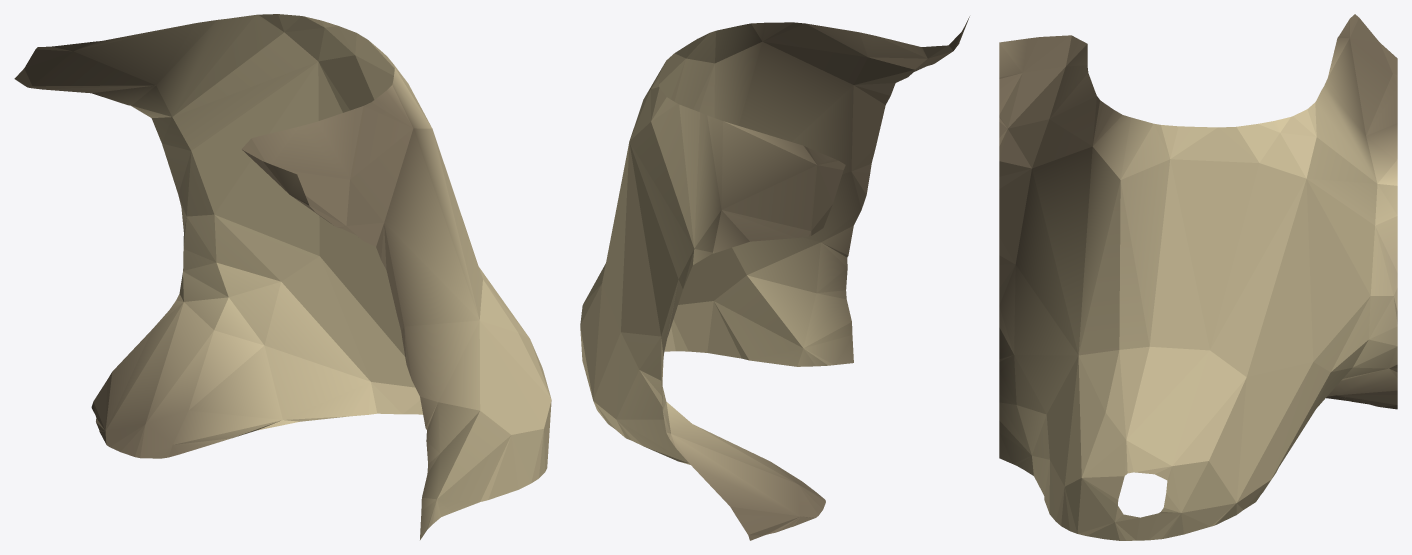
The model's file is bisect-8-3-4.gltf.
3 renders of one model, left to right at view 1: azimuth 30°, elevation 25°; view 2: azimuth 150°, elevation 25°; view 3: azimuth 270°, elevation 25°, orthographic. The views are drawn at different scales.
Parts seen in each view (by area): view 1: bisect-8-3-4; view 2: bisect-8-3-4; view 3: bisect-8-3-4.
Boxes of the visible parts, box(x1,y1,x2,y2) form: bisect-8-3-4: box(14, 14, 551, 539); bisect-8-3-4: box(580, 16, 969, 540); bisect-8-3-4: box(999, 14, 1397, 540).
Size of the model in its own units: 20 by 20 by 20.
